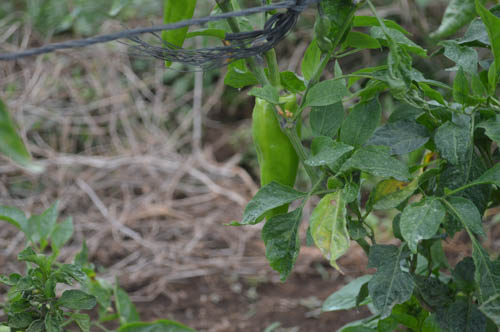ChiliPepper: (254, 96, 303, 218)
